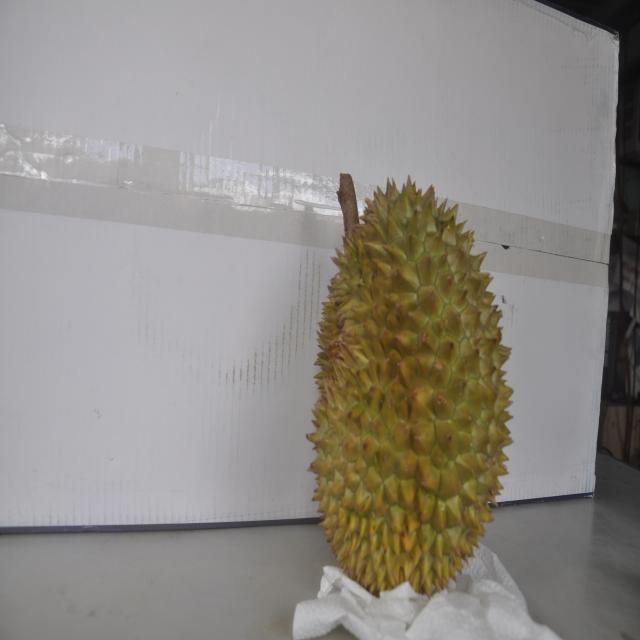mature: (310, 175, 514, 594)
